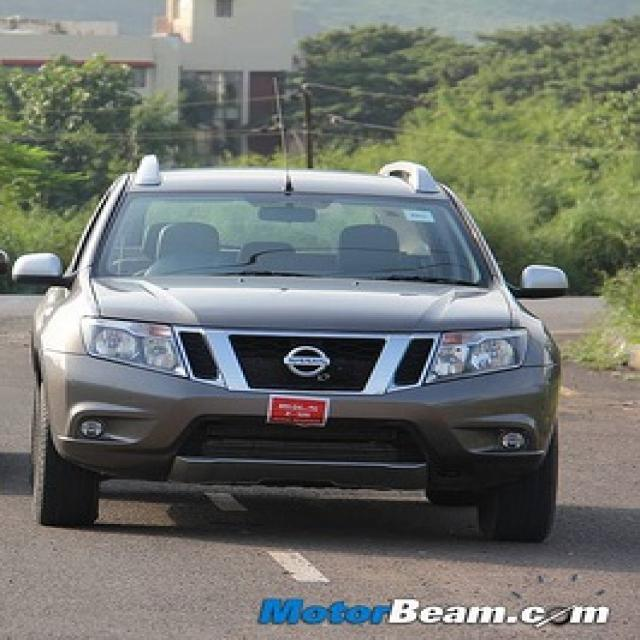license-plate: (270, 394, 322, 424)
